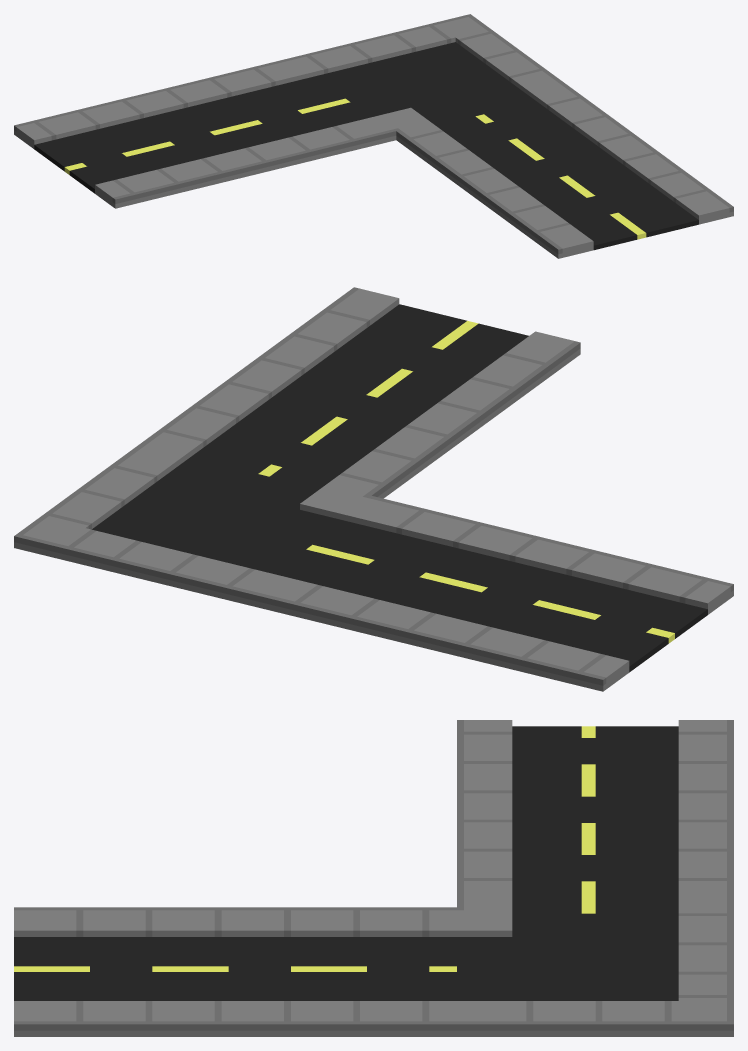
The model's file is store_fill-0.obj.
The picture shows the model from 3 angles, top to bottom: view 1: azimuth 30°, elevation 25°; view 2: azimuth 150°, elevation 25°; view 3: azimuth 270°, elevation 25°; orthographic projection. The views are drawn at different scales.
Parts seen in each view (by area): view 1: store_fill-0; view 2: store_fill-0; view 3: store_fill-0.
Part boxes in pixels (x1,y1,x2,y2): store_fill-0: (14,14,733,258); store_fill-0: (14,287,733,691); store_fill-0: (14,720,733,1036).
Bounding box in the file's own units: 104 × 2 × 104.
Materials: 1 (1 with a texture image).
